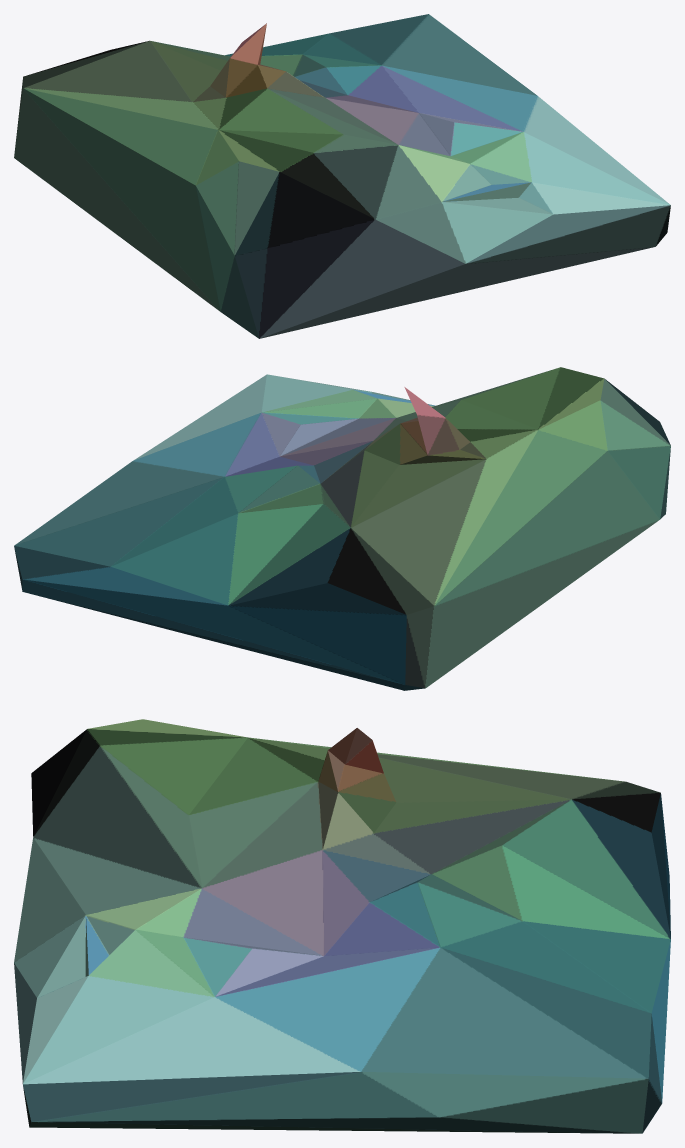
Rendered from surfing.fbx.
3 renders of one model, top to bottom at view 1: azimuth 30°, elevation 25°; view 2: azimuth 150°, elevation 25°; view 3: azimuth 270°, elevation 25°, orthographic. The views are drawn at different scales.
Parts seen in each view (by area): view 1: Mesh_0; view 2: Mesh_0; view 3: Mesh_0.
Part boxes in pixels (box(x1,y1,x2,y2)): Mesh_0: box(14, 14, 670, 338); Mesh_0: box(14, 367, 670, 690); Mesh_0: box(14, 719, 670, 1133).
Size of the model in its own units: 113 by 51.35 by 118.
1 material, 1 textured.
